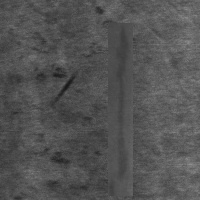inclusion: (108, 23, 133, 196)
rolled-in_scale: (13, 31, 68, 83), (29, 126, 71, 168)
